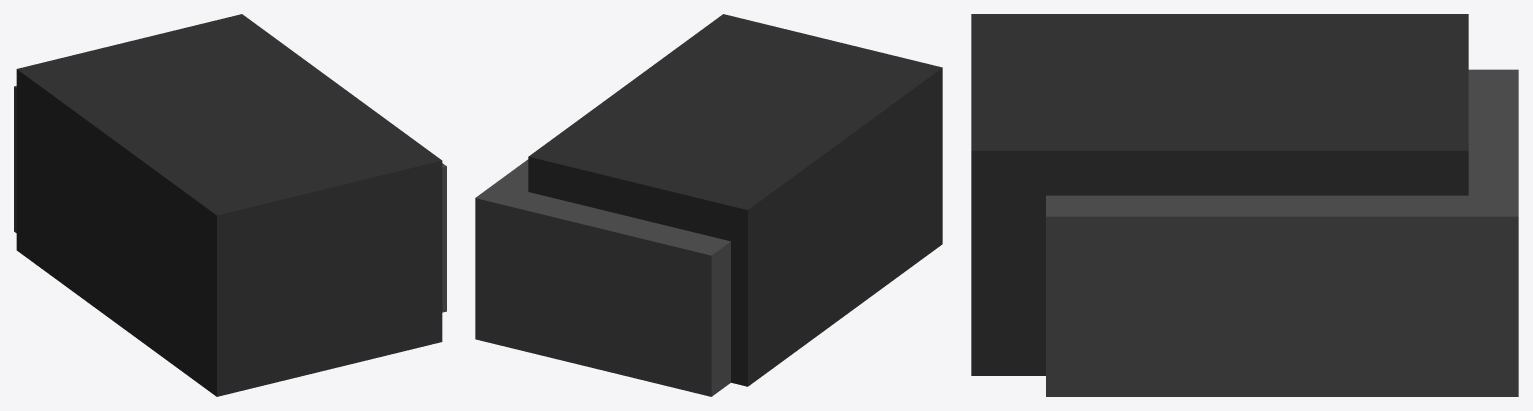
Rendered from Pedra2.obj.
3 renders of one model, left to right at view 1: azimuth 30°, elevation 25°; view 2: azimuth 150°, elevation 25°; view 3: azimuth 270°, elevation 25°, orthographic. The views are drawn at different scales.
Parts seen in each view (by area): view 1: Pedra2; view 2: Pedra2; view 3: Pedra2.
Part boxes in pixels (x1,y1,x2,y2): Pedra2: [14, 14, 446, 396]; Pedra2: [475, 14, 942, 396]; Pedra2: [971, 14, 1518, 396].
Bounding box in the file's own units: 15 × 10 × 22.
1 material, 1 textured.
